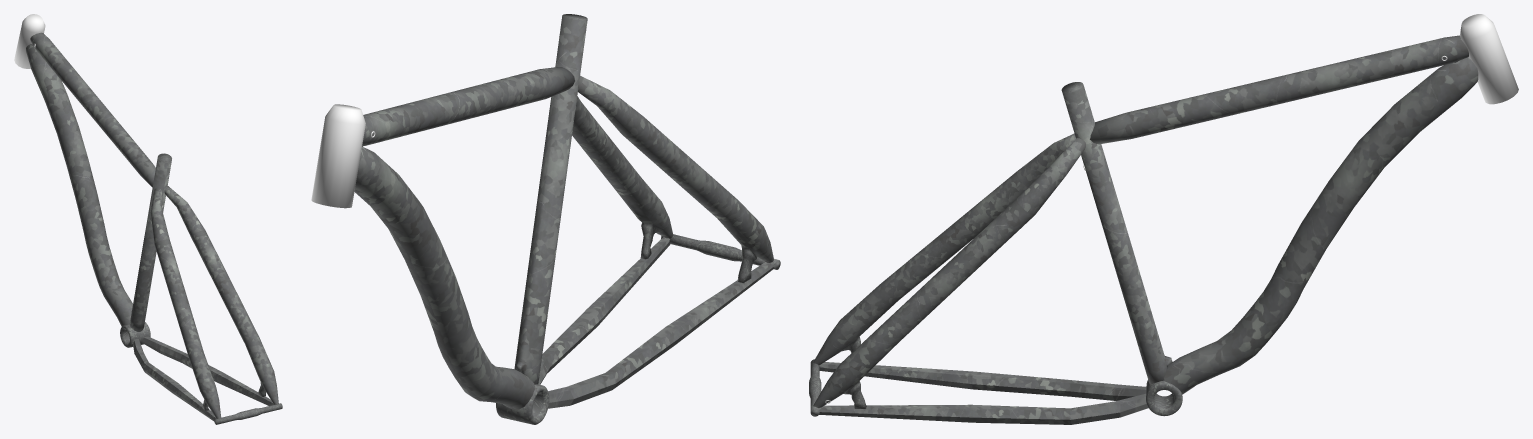
The model's file is Quadro em S.glb.
3 renders of one model, left to right at view 1: azimuth 30°, elevation 25°; view 2: azimuth 150°, elevation 25°; view 3: azimuth 270°, elevation 25°, orthographic. The views are drawn at different scales.
Parts seen in each view (by area): view 1: Quadro em S; view 2: Quadro em S; view 3: Quadro em S.
Boxes of the visible parts, bbox=[...] form: Quadro em S: bbox=[14, 14, 282, 424]; Quadro em S: bbox=[311, 14, 780, 424]; Quadro em S: bbox=[809, 14, 1518, 424].
Bounding box in the file's own units: 0.1994 × 0.6671 × 1.09.
3 materials, 1 textured.
